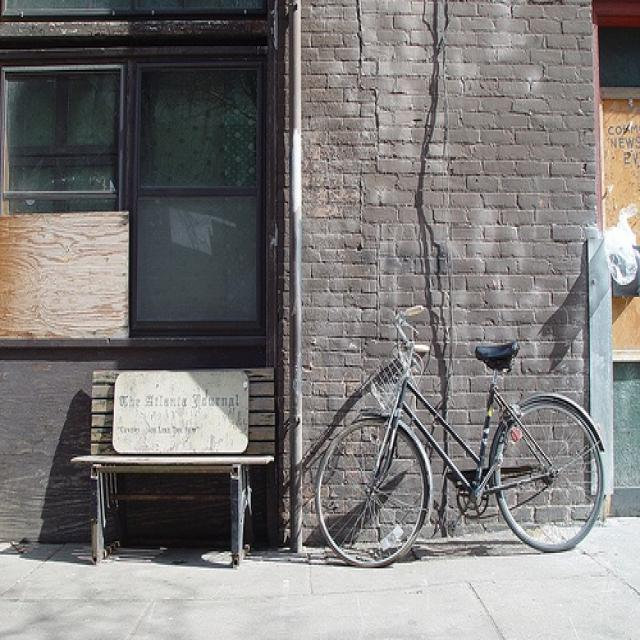bicycle: (312, 302, 603, 568)
